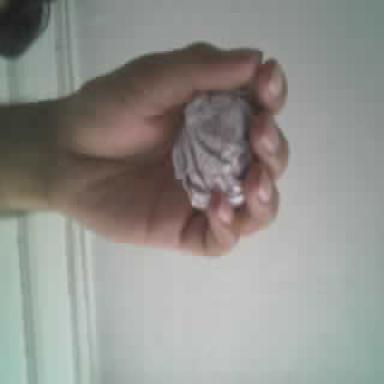paper: (173, 91, 251, 208)
